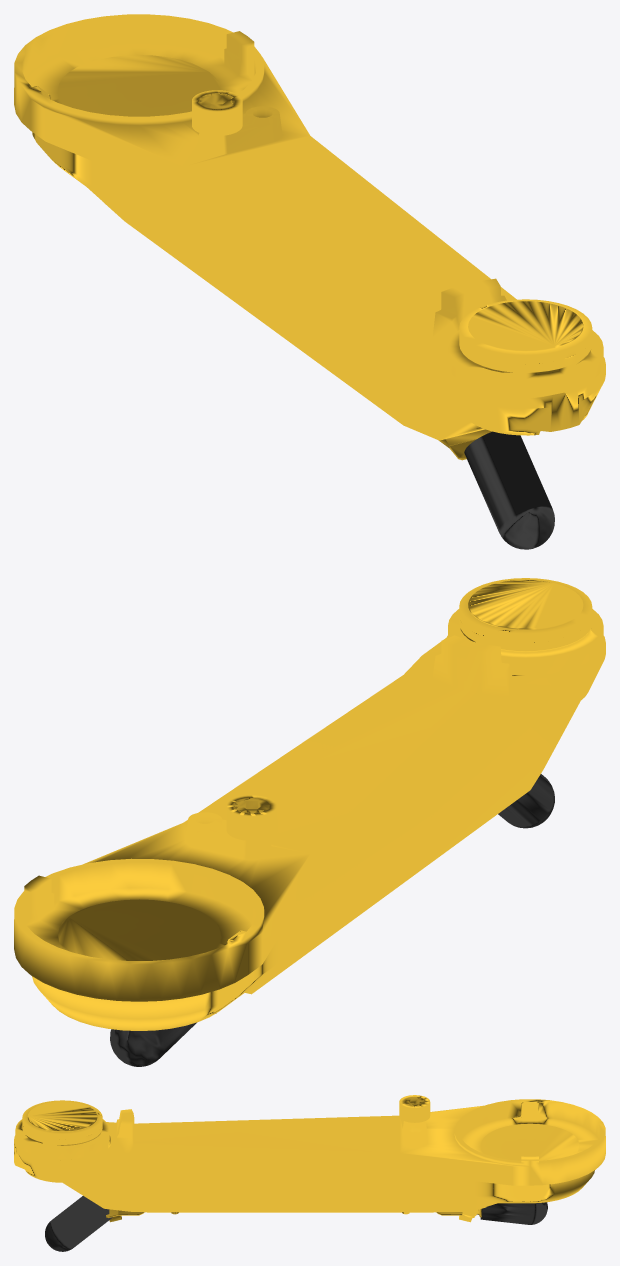
3 renders of one model, top to bottom at view 1: azimuth 30°, elevation 25°; view 2: azimuth 150°, elevation 25°; view 3: azimuth 270°, elevation 25°, orthographic. The views are drawn at different scales.
Parts seen in each view (by area): view 1: Node_0x7fd4b53134a0 (×2); view 2: Node_0x7fd4b53134a0 (×2); view 3: Node_0x7fd4b53134a0 (×2).
Part boxes in pixels (x1=…): Node_0x7fd4b53134a0 (×2): x1=14, y1=14, x2=605, y2=549; Node_0x7fd4b53134a0 (×2): x1=14, y1=578, x2=605, y2=1066; Node_0x7fd4b53134a0 (×2): x1=14, y1=1095, x2=605, y2=1251.
Bounding box in the file's own units: 0.256 × 0.2679 × 1.
